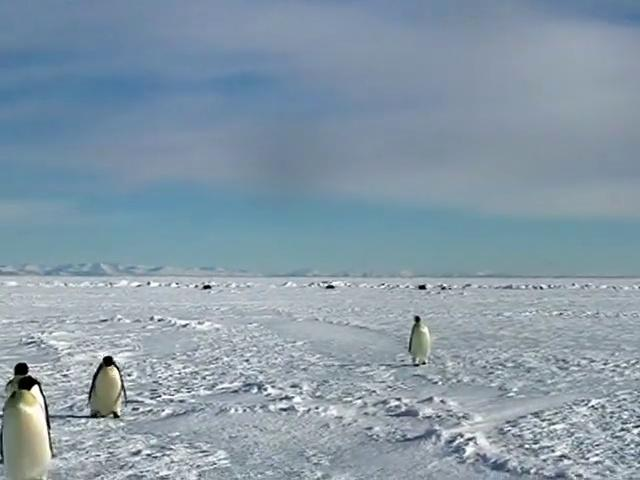animal: (88, 356, 126, 417)
